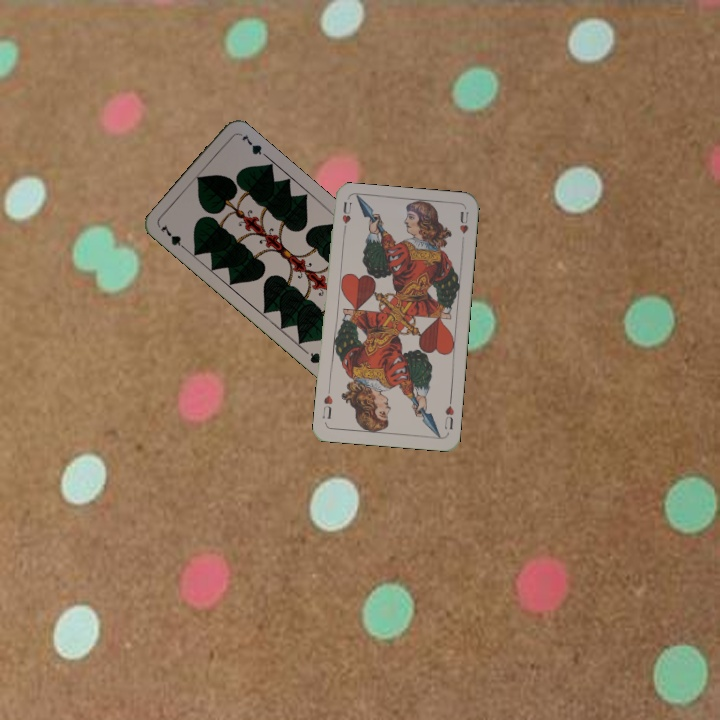G7: (157, 220, 190, 254)
HU: (338, 198, 354, 238), (441, 395, 457, 432)
